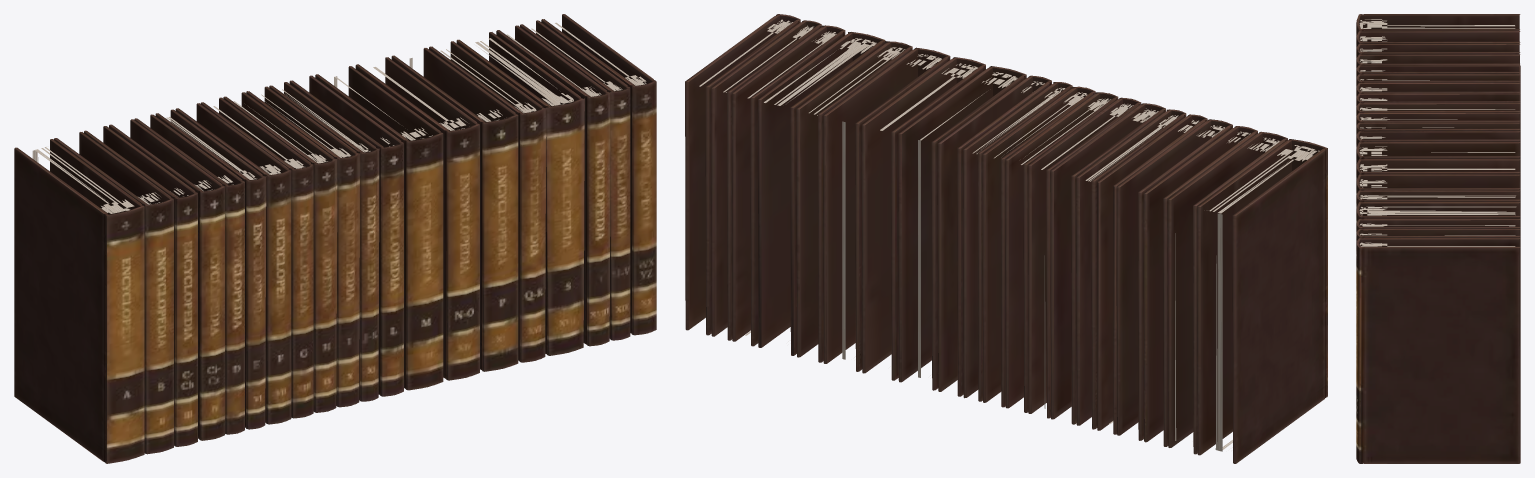
The model's file is book_encyclopedia_set_01.glb.
3 renders of one model, left to right at view 1: azimuth 30°, elevation 25°; view 2: azimuth 150°, elevation 25°; view 3: azimuth 270°, elevation 25°, orthographic. The views are drawn at different scales.
Visible parts, largest first — view 1: book_encyclopedia_set_01_book01, book_encyclopedia_set_01_book13, book_encyclopedia_set_01_book17, book_encyclopedia_set_01_book15, book_encyclopedia_set_01_book14, book_encyclopedia_set_01_book02, book_encyclopedia_set_01_book16, book_encyclopedia_set_01_book04, book_encyclopedia_set_01_book20, book_encyclopedia_set_01_book18, book_encyclopedia_set_01_book07, book_encyclopedia_set_01_book12 (+8 smaller); view 2: book_encyclopedia_set_01_book01, book_encyclopedia_set_01_book13, book_encyclopedia_set_01_book15, book_encyclopedia_set_01_book17, book_encyclopedia_set_01_book14, book_encyclopedia_set_01_book02, book_encyclopedia_set_01_book16, book_encyclopedia_set_01_book04, book_encyclopedia_set_01_book20, book_encyclopedia_set_01_book07, book_encyclopedia_set_01_book18, book_encyclopedia_set_01_book12 (+8 smaller); view 3: book_encyclopedia_set_01_book20, book_encyclopedia_set_01_book13, book_encyclopedia_set_01_book01, book_encyclopedia_set_01_book17, book_encyclopedia_set_01_book15, book_encyclopedia_set_01_book14, book_encyclopedia_set_01_book02, book_encyclopedia_set_01_book16, book_encyclopedia_set_01_book03, book_encyclopedia_set_01_book07, book_encyclopedia_set_01_book12, book_encyclopedia_set_01_book18 (+8 smaller).
Part boxes in pixels (left/top/right/bottom): book_encyclopedia_set_01_book01: left=14, top=139, right=144, bottom=463; book_encyclopedia_set_01_book13: left=315, top=66, right=443, bottom=390; book_encyclopedia_set_01_book17: left=456, top=32, right=584, bottom=355; book_encyclopedia_set_01_book15: left=391, top=48, right=518, bottom=371; book_encyclopedia_set_01_book14: left=355, top=57, right=479, bottom=380; book_encyclopedia_set_01_book02: left=54, top=132, right=173, bottom=454; book_encyclopedia_set_01_book16: left=429, top=41, right=546, bottom=362; book_encyclopedia_set_01_book04: left=109, top=119, right=224, bottom=440; book_encyclopedia_set_01_book20: left=541, top=14, right=656, bottom=335; book_encyclopedia_set_01_book18: left=496, top=25, right=610, bottom=346; book_encyclopedia_set_01_book07: left=175, top=103, right=291, bottom=424; book_encyclopedia_set_01_book12: left=289, top=75, right=403, bottom=396; book_encyclopedia_set_01_book01: left=1197, top=139, right=1327, bottom=463; book_encyclopedia_set_01_book13: left=898, top=66, right=1026, bottom=390; book_encyclopedia_set_01_book15: left=823, top=47, right=950, bottom=371; book_encyclopedia_set_01_book17: left=758, top=32, right=886, bottom=355; book_encyclopedia_set_01_book14: left=861, top=57, right=985, bottom=380; book_encyclopedia_set_01_book02: left=1167, top=131, right=1287, bottom=454; book_encyclopedia_set_01_book16: left=796, top=41, right=912, bottom=362; book_encyclopedia_set_01_book04: left=1116, top=119, right=1232, bottom=440; book_encyclopedia_set_01_book20: left=685, top=14, right=800, bottom=335; book_encyclopedia_set_01_book07: left=1050, top=103, right=1165, bottom=424; book_encyclopedia_set_01_book18: left=732, top=25, right=845, bottom=346; book_encyclopedia_set_01_book12: left=937, top=75, right=1051, bottom=396; book_encyclopedia_set_01_book20: left=1356, top=238, right=1520, bottom=463; book_encyclopedia_set_01_book13: left=1356, top=142, right=1520, bottom=346; book_encyclopedia_set_01_book01: left=1356, top=14, right=1520, bottom=64; book_encyclopedia_set_01_book17: left=1356, top=201, right=1520, bottom=222; book_encyclopedia_set_01_book15: left=1356, top=174, right=1520, bottom=379; book_encyclopedia_set_01_book14: left=1356, top=159, right=1520, bottom=361; book_encyclopedia_set_01_book02: left=1356, top=30, right=1520, bottom=47; book_encyclopedia_set_01_book16: left=1356, top=190, right=1520, bottom=408; book_encyclopedia_set_01_book03: left=1356, top=43, right=1520, bottom=58; book_encyclopedia_set_01_book07: left=1356, top=82, right=1520, bottom=282; book_encyclopedia_set_01_book12: left=1356, top=131, right=1520, bottom=329; book_encyclopedia_set_01_book18: left=1356, top=218, right=1520, bottom=417.
Size of the model in its own units: 0.5516 by 0.2374 by 0.1636.
Materials: 2 (2 with a texture image).
